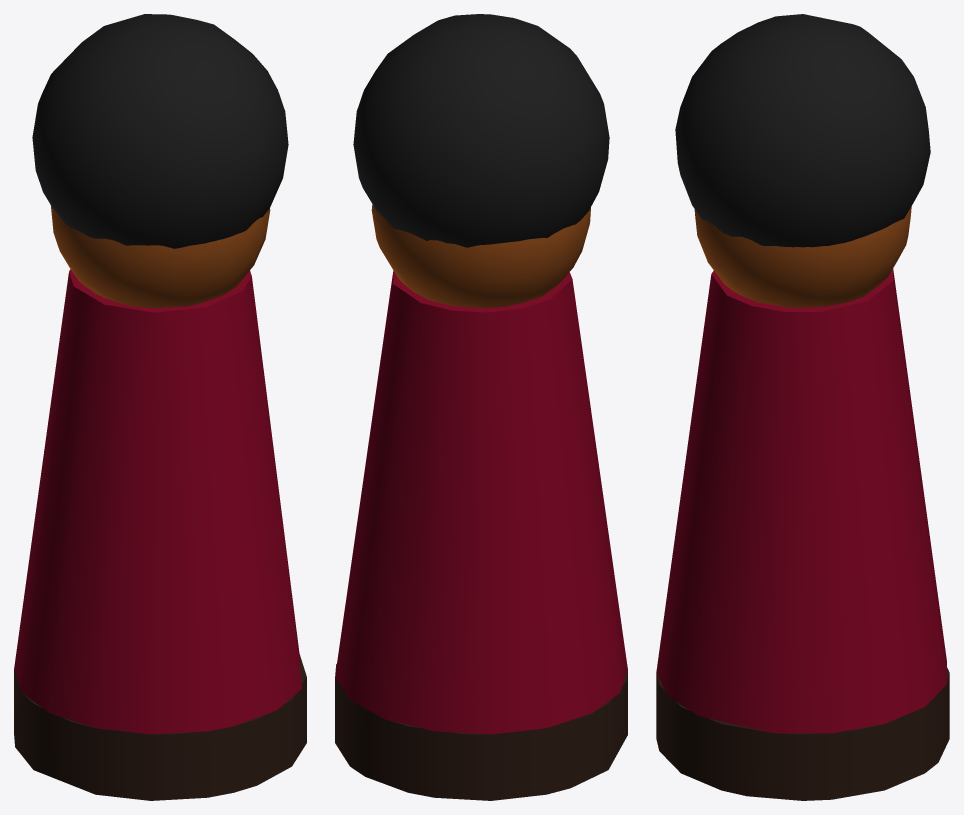
File: african-girl-optimized.glb
The picture shows the model from 3 angles, left to right: view 1: azimuth 30°, elevation 25°; view 2: azimuth 150°, elevation 25°; view 3: azimuth 270°, elevation 25°; orthographic projection.
Bounding box in the file's own units: 0.8 × 2.15 × 0.8002.
